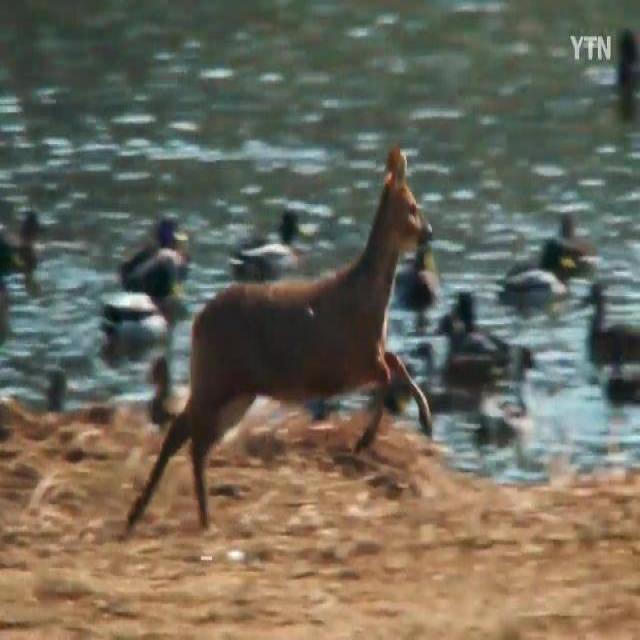deer: (124, 142, 438, 533)
